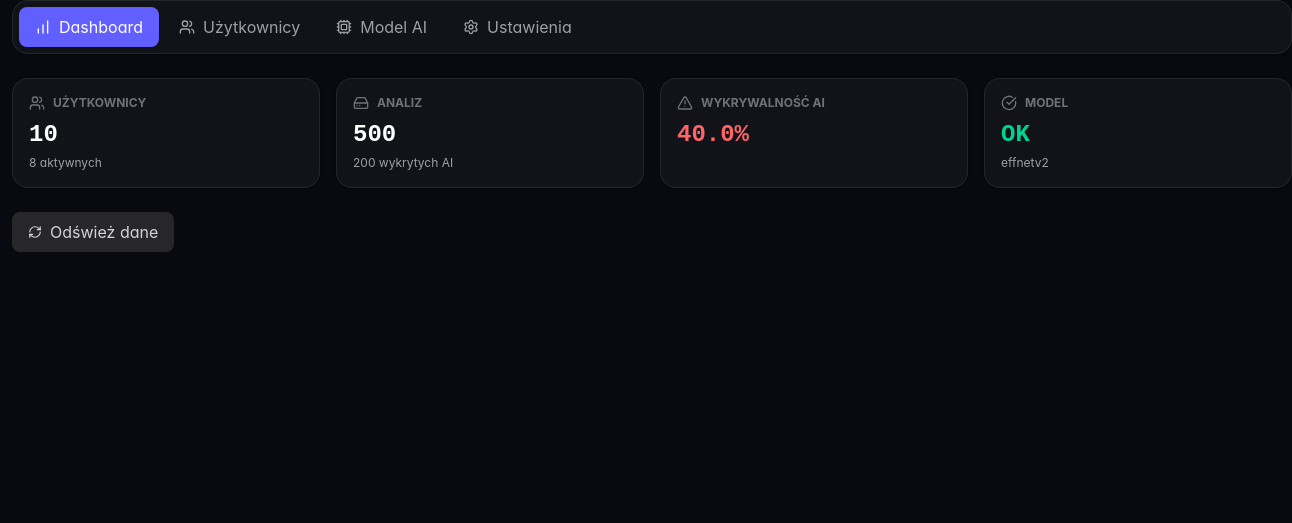
AdminPanel › settings tab - system actions › should display API version and metrics count
Click the button "Ustawienia" at (517, 27), box x1=447 y1=7 x2=588 y2=47
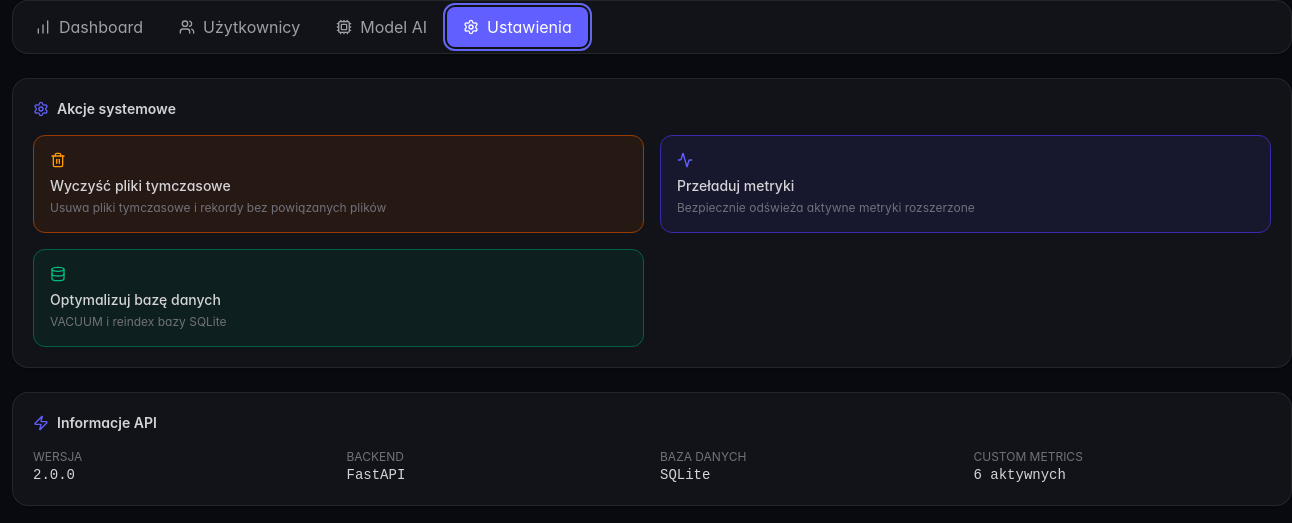
Now the text "2.0.0" is shown, box x1=33 y1=467 x2=75 y2=483
Now the text "6 aktywnych" is shown, box x1=974 y1=467 x2=1066 y2=483
